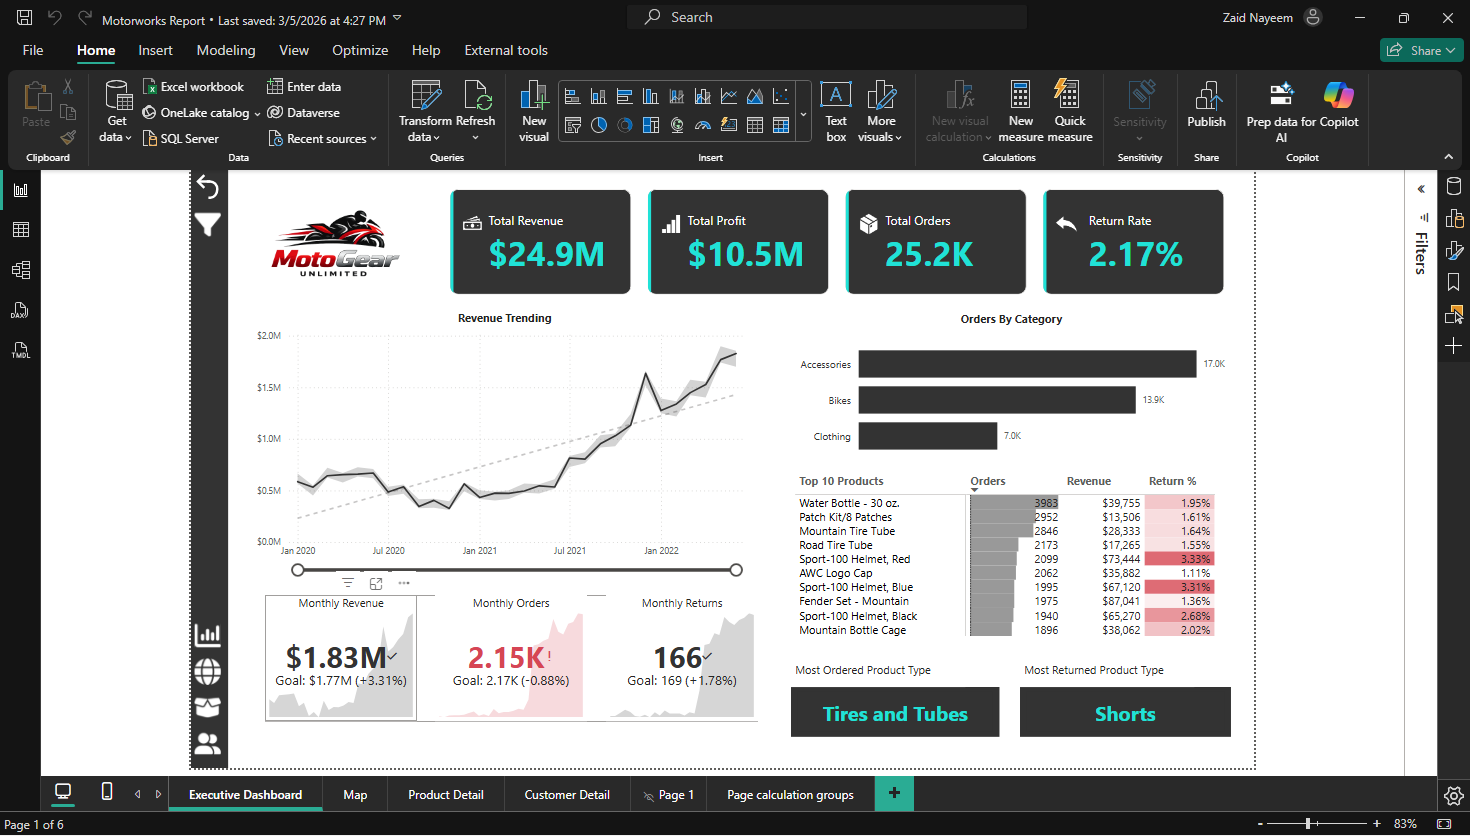

Layout of this report page (visuals, bound fields, positions):
{"tool":"powerbi","page":{"name":"Executive Dashboard","canvas":[1280,720],"ordinal":0},"visuals":[{"type":"kpi","title":"Monthly Revenue","fields":{"Goal":["Measures Table.Previous Month Revenue"],"Indicator":["Measures Table.Total Revenue"],"TrendLine":["Calendar Lookup.Start of Month"]},"box":[88.9,512.2,183.3,152.2],"z":0,"group":"g1"},{"type":"actionButton","box":[0,540,45.6,40],"z":0,"group":"g2"},{"type":"image","title":"MG Logo","box":[34.4,0,280,201.1],"z":1000},{"type":"kpi","title":"Monthly Orders","fields":{"Goal":["Measures Table.Previous Month Orders"],"Indicator":["Measures Table.Total Orders"],"TrendLine":["Calendar Lookup.Start of Month"]},"box":[293.9,512.2,183.3,152.2],"z":1000,"group":"g1"},{"type":"actionButton","box":[0,583.7,45.6,40],"z":1000,"group":"g2"},{"type":"actionButton","box":[0,0,45.6,40],"z":1500,"group":"g2"},{"type":"shape","title":"Left Nav bar","box":[0,0,45,720],"z":2000},{"type":"kpi","title":"Monthly Returns","fields":{"Goal":["Measures Table.Previous Month Returns"],"Indicator":["Measures Table.Total Returns"],"TrendLine":["Calendar Lookup.Start of Month"]},"box":[498.9,512.2,183.3,152.2],"z":2000,"group":"g1"},{"type":"actionButton","box":[0,627.4,45.6,40],"z":2000,"group":"g2"},{"type":"actionButton","box":[0,671.1,45.6,40],"z":3000,"group":"g2"},{"type":"actionButton","box":[0,45.6,45.6,40],"z":4000,"group":"g2"},{"type":"lineChart","title":" Revenue Trending","fields":{"Category":["Calendar Lookup.Start of Month"],"Y":["Measures Table.Total Revenue"]},"box":[73.3,168.9,608.9,324.4],"z":5000},{"type":"clusteredBarChart","title":"Orders By Category","fields":{"Category":["Product Categories Lookup.CategoryName"],"Y":["Measures Table.Total Orders"]},"box":[723.4,169.4,528.6,191],"z":6000},{"type":"group","id":"g1","title":"KPI Performance","box":[88.9,512.2,593.3,152.2],"z":7000},{"type":"pivotTable","fields":{"Rows":["Product Lookup.ProductName"],"Values":["Measures Table.Total Orders","Measures Table.Total Revenue","Measures Table.Return Rate"]},"box":[723,360,516,209],"z":8000},{"type":"cardVisual","title":"Most Ordered Product Type","fields":{"Data":["Measures Table.Most Ordered Product type"]},"box":[723,623,251,60],"z":9000},{"type":"cardVisual","title":"Most Ordered Product Type","fields":{"Data":["Measures Table.Most Returned Product Type"]},"box":[998,623,254,60],"z":10000},{"type":"textbox","box":[723,588,210,35],"z":11000},{"type":"textbox","box":[998,588,210,35],"z":12000},{"type":"group","id":"g2","title":"Nav bar buttons","box":[0,0,45.6,711.1],"z":13500},{"type":"cardVisual","fields":{"Data":["Measures Table.Total Revenue","Measures Table.Total Profit","Measures Table.Total Orders","Measures Table.Return Rate"]},"box":[294.4,5.6,968.9,161.1],"z":14001}]}

Visuals, with their boxes on the page's 1280x720 design canvas (x1, y1, x2, y2). These are canvas units, not pixel positions in the 1470x836 screenshot, which may show the page scaled, cropped or inside an application window:
"Monthly Revenue" kpi: box=[89, 512, 272, 664]
actionButton: box=[0, 540, 46, 580]
"MG Logo" image: box=[34, 0, 314, 201]
"Monthly Orders" kpi: box=[294, 512, 477, 664]
actionButton: box=[0, 584, 46, 624]
actionButton: box=[0, 0, 46, 40]
"Left Nav bar" shape: box=[0, 0, 45, 720]
"Monthly Returns" kpi: box=[499, 512, 682, 664]
actionButton: box=[0, 627, 46, 667]
actionButton: box=[0, 671, 46, 711]
actionButton: box=[0, 46, 46, 86]
" Revenue Trending" lineChart: box=[73, 169, 682, 493]
"Orders By Category" clusteredBarChart: box=[723, 169, 1252, 360]
"KPI Performance" group: box=[89, 512, 682, 664]
pivotTable - Product Lookup.ProductName x Measures Table.Total Orders: box=[723, 360, 1239, 569]
"Most Ordered Product Type" cardVisual: box=[723, 623, 974, 683]
"Most Ordered Product Type" cardVisual: box=[998, 623, 1252, 683]
textbox: box=[723, 588, 933, 623]
textbox: box=[998, 588, 1208, 623]
"Nav bar buttons" group: box=[0, 0, 46, 711]
cardVisual - Measures Table.Total Revenue x Measures Table.Total Profit: box=[294, 6, 1263, 167]
